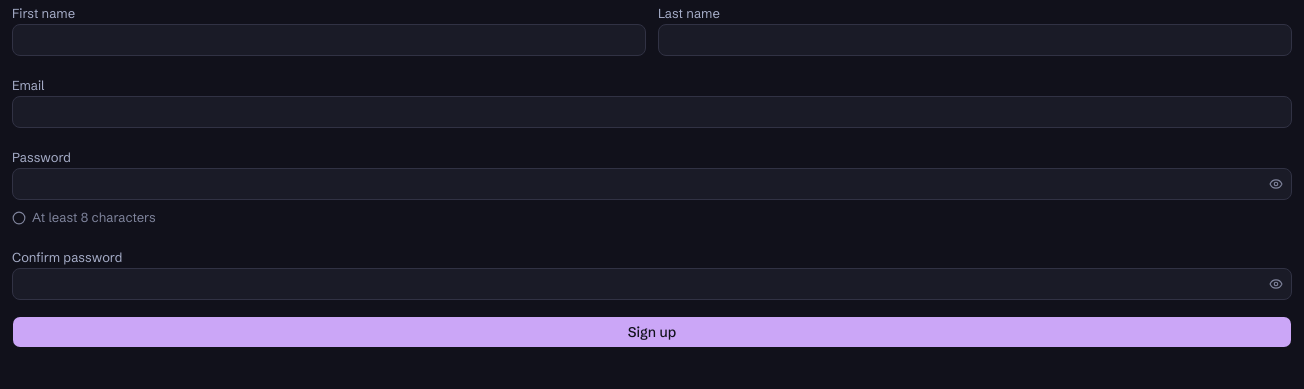
Test: SignupForm › shows a live confirm-password mismatch after the field is touched, and a match confirmation once they agree
The width and height of the screenshot is (1304, 389).
Type "correct horse" into the password field labelled "Password" at (638, 184), box [13,168,1264,200]
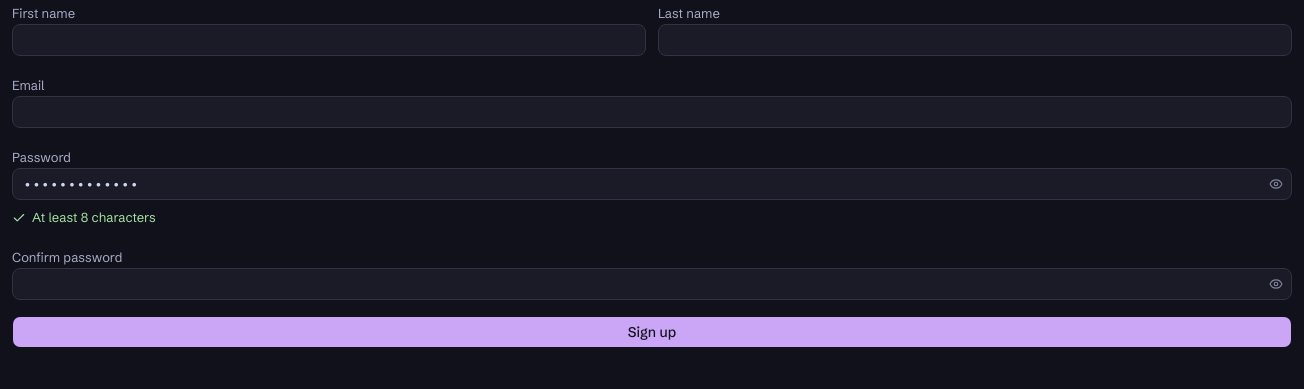
Type "different" into the password field labelled "Confirm password" at (638, 284), box [13,268,1264,300]
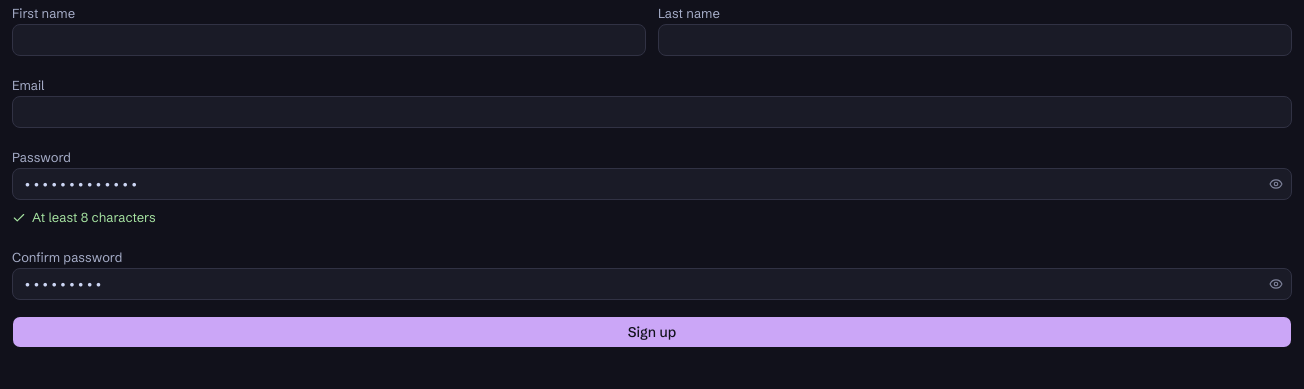
Leave the password field labelled "Confirm password", box [13,268,1264,300]
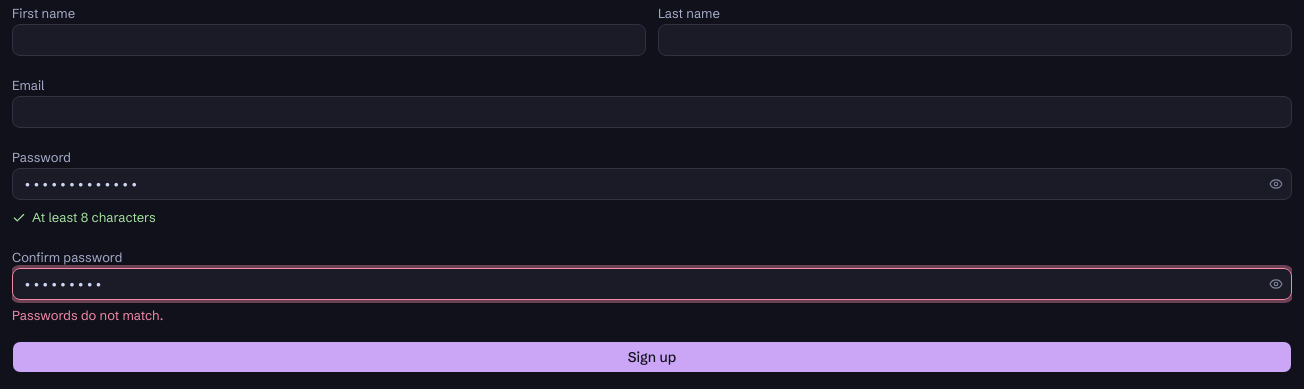
expect the text "Passwords do not match." is shown: met, box [12,306,163,322]
Type "correct horse" into the password field labelled "Confirm password" at (638, 284), box [13,268,1264,300]
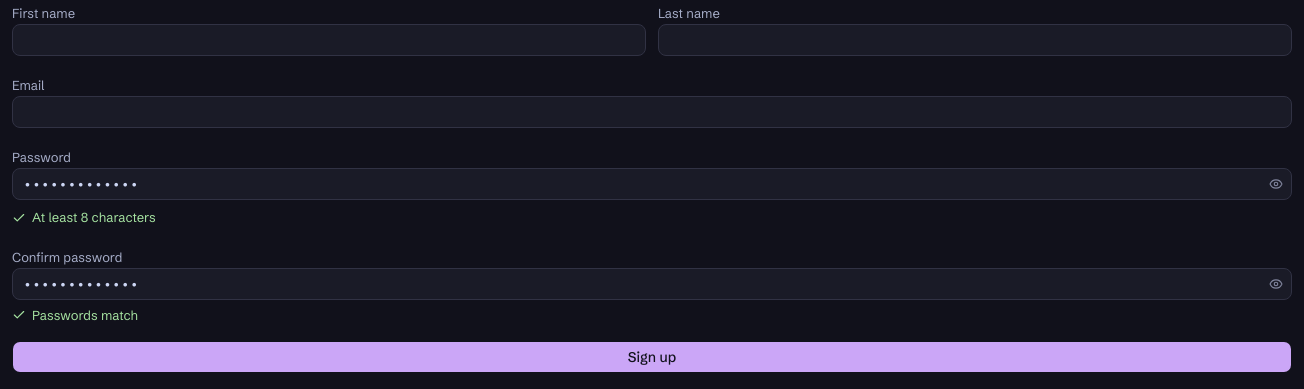
expect the text "Passwords match" is shown: met, box [12,306,138,322]
expect the text "Passwords do not match." is gone: met
